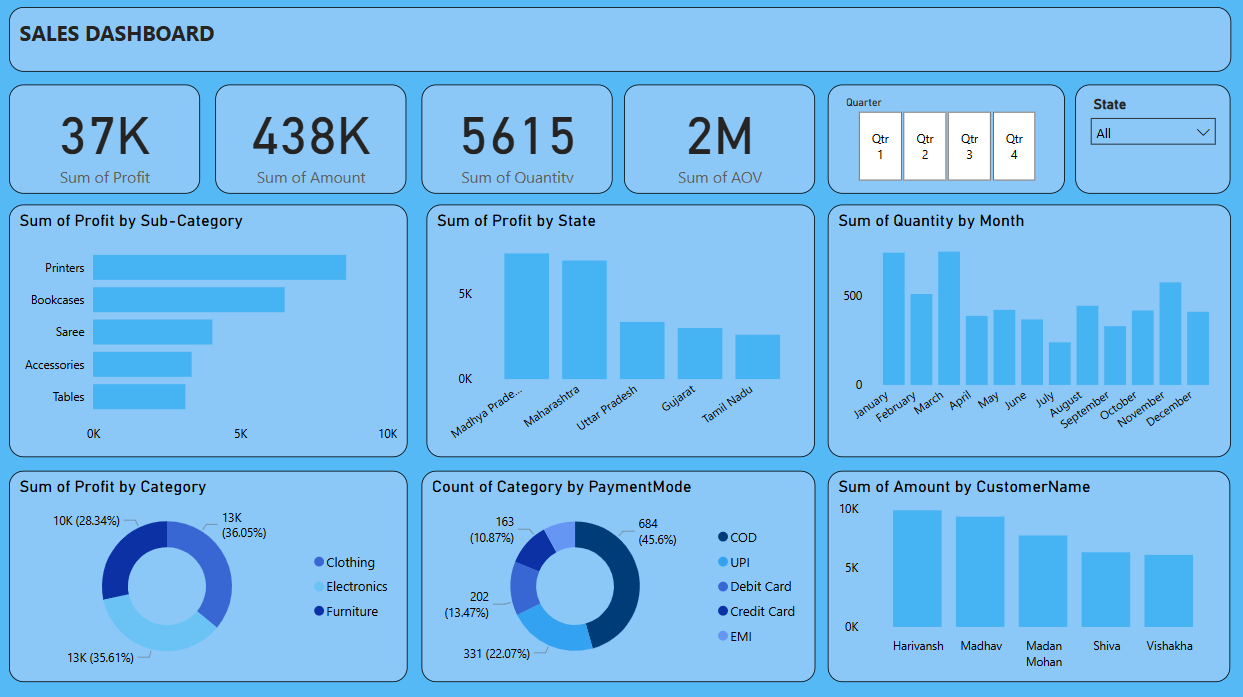

What the dashboard file says about the page in this screenshot:
{"tool":"powerbi","page":{"name":"Page 1","canvas":[1280,720],"ordinal":0},"visuals":[{"type":"textbox","box":[10.3,10.3,1253.8,66.7],"z":0},{"type":"card","fields":{"Values":["Details.Profit"]},"box":[9.8,89.6,196.3,111.7],"z":1000},{"type":"card","fields":{"Values":["Details.Amount"]},"box":[222.1,89.6,196.3,111.7],"z":2000},{"type":"card","fields":{"Values":["Details.Quantity"]},"box":[433.1,89.6,196.3,111.7],"z":3000},{"type":"card","fields":{"Values":["Details.AOV"]},"box":[640.5,89.6,196.3,111.7],"z":4000},{"type":"barChart","fields":{"Category":["Details.Sub-Category"],"Y":["Details.Profit"]},"box":[9.8,212.3,408.6,258.9],"z":5000},{"type":"donutChart","fields":{"Category":["Details.Category"],"Y":["Details.Profit"]},"box":[9.8,485.9,408.6,217.2],"z":6000},{"type":"donutChart","fields":{"Category":["Details.PaymentMode"],"Y":["Details.Category"]},"box":[433.1,485.9,403.7,217.2],"z":7000},{"type":"columnChart","fields":{"Y":["Details.Profit"],"Category":["Orders.State"]},"box":[438,212.3,398.8,258.9],"z":8000},{"type":"columnChart","fields":{"Category":["Orders.Order Date.Variation.Date Hierarchy.Month"],"Y":["Details.Quantity"]},"box":[850.3,212.3,413.5,258.9],"z":9000},{"type":"columnChart","fields":{"Category":["Orders.CustomerName"],"Y":["Details.Amount"]},"box":[850,486,413,217],"z":10000},{"type":"slicer","fields":{"Values":["Orders.Order Date.Variation.Date Hierarchy.Quarter"]},"box":[850.3,89.6,242.9,111.7],"z":11000},{"type":"slicer","fields":{"Values":["Orders.State"]},"box":[1104.3,89.6,159.5,111.7],"z":12000}]}

Visuals, with their boxes in screenshot pixels (x1, y1, x2, y2), scaled from the page's 1280x720 canvas onto the 1243x697 screenshot:
textbox: bbox=(10, 10, 1228, 75)
card - Details.Profit: bbox=(10, 87, 200, 195)
card - Details.Amount: bbox=(216, 87, 406, 195)
card - Details.Quantity: bbox=(421, 87, 611, 195)
card - Details.AOV: bbox=(622, 87, 813, 195)
barChart - Details.Sub-Category x Details.Profit: bbox=(10, 206, 406, 456)
donutChart - Details.Category x Details.Profit: bbox=(10, 470, 406, 681)
donutChart - Details.PaymentMode x Details.Category: bbox=(421, 470, 813, 681)
columnChart - Details.Profit x Orders.State: bbox=(425, 206, 813, 456)
columnChart - Orders.Order Date.Variation.Date Hierarchy.Month x Details.Quantity: bbox=(826, 206, 1227, 456)
columnChart - Orders.CustomerName x Details.Amount: bbox=(825, 470, 1226, 681)
slicer - Orders.Order Date.Variation.Date Hierarchy.Quarter: bbox=(826, 87, 1062, 195)
slicer - Orders.State: bbox=(1072, 87, 1227, 195)
